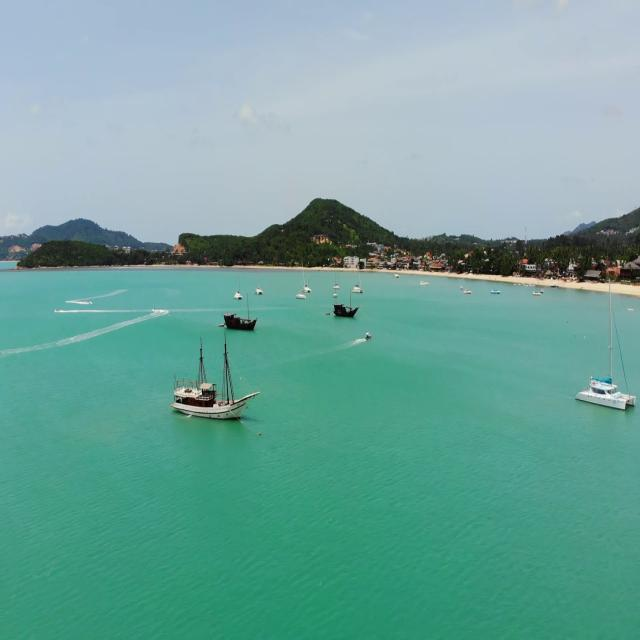fishing boat: (161, 330, 265, 428), (580, 313, 640, 427), (319, 277, 363, 326), (218, 299, 255, 325)
